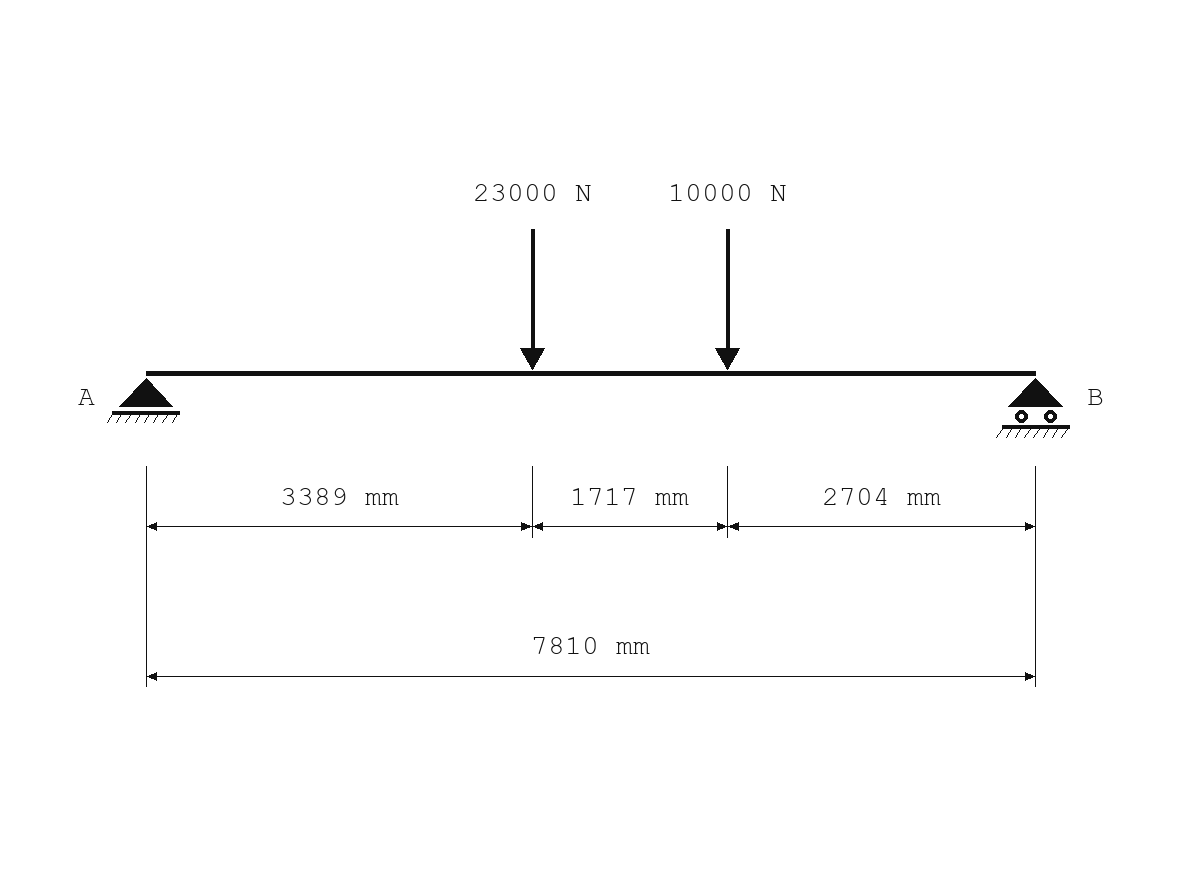pin_support: (107, 378, 180, 423)
point_load: (520, 229, 545, 370), (715, 229, 740, 370)
roller_support: (996, 378, 1070, 438)
